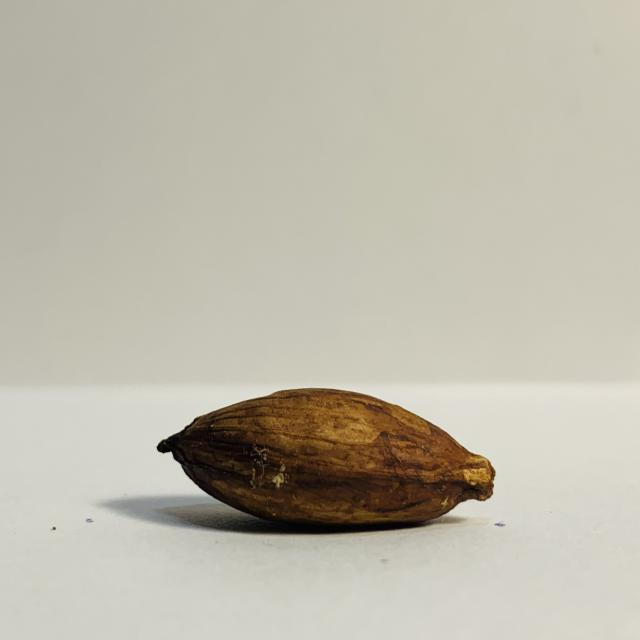Fine_cocoabeans: (33, 316, 528, 594)
